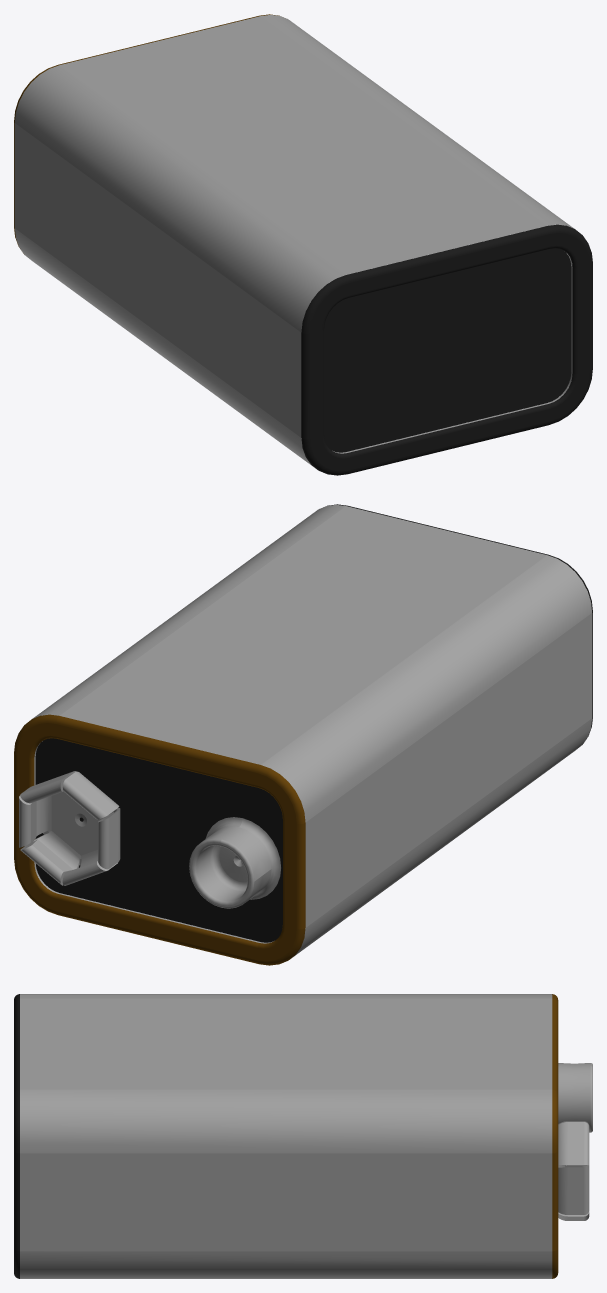
Rendered from ada-1321.glb.
3 renders of one model, top to bottom at view 1: azimuth 30°, elevation 25°; view 2: azimuth 150°, elevation 25°; view 3: azimuth 270°, elevation 25°, orthographic. The views are drawn at different scales.
Parts seen in each view (by area): view 1: 0.3333333333333333_0.3333333333333333_0.3333333333333333_0, 0_0_0_0; view 2: 0.3333333333333333_0.3333333333333333_0.3333333333333333_0, 0_0_0_0, 0.08333333333333333_0.08333333333333333_0_0; view 3: 0.3333333333333333_0.3333333333333333_0.3333333333333333_0, 0.08333333333333333_0.08333333333333333_0_0, 0_0_0_0.
Part boxes in pixels (<box>): 0.3333333333333333_0.3333333333333333_0.3333333333333333_0: <box>14,15,574,467</box>; 0_0_0_0: <box>301,224,592,475</box>; 0.3333333333333333_0.3333333333333333_0.3333333333333333_0: <box>19,505,592,957</box>; 0_0_0_0: <box>35,504,592,942</box>; 0.08333333333333333_0.08333333333333333_0_0: <box>14,714,305,965</box>; 0.3333333333333333_0.3333333333333333_0.3333333333333333_0: <box>20,994,592,1278</box>; 0.08333333333333333_0.08333333333333333_0_0: <box>552,994,558,1278</box>; 0_0_0_0: <box>14,994,19,1278</box>.
Size of the model in its own units: 2.6 by 1.7 by 4.83.
